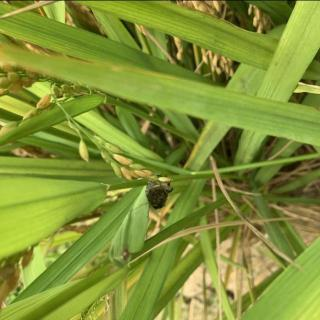Gosong-Palsu: (144, 173, 174, 210)
